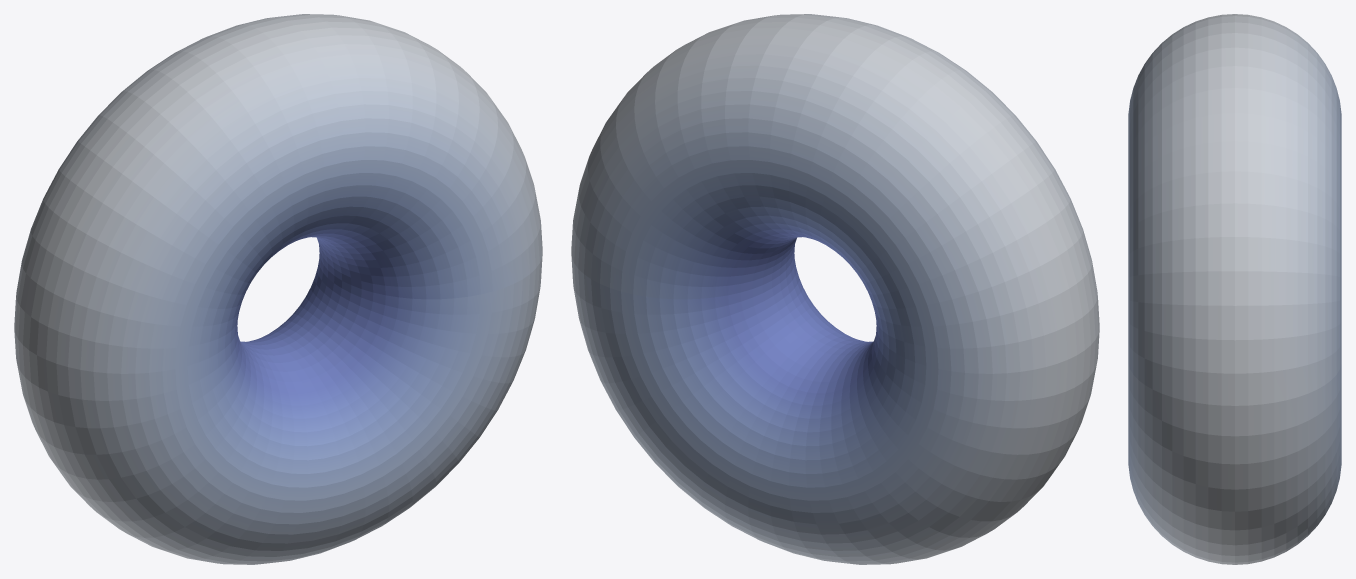
3 views of the same model, side by side, from view 1: azimuth 30°, elevation 25°; view 2: azimuth 150°, elevation 25°; view 3: azimuth 270°, elevation 25° (orthographic). The views are drawn at different scales.
Parts seen in each view (by area): view 1: world; view 2: world; view 3: world.
Part boxes in pixels (box(x1,y1,x2,y2)): world: box(14, 14, 542, 564); world: box(571, 14, 1099, 564); world: box(1128, 14, 1341, 564).
Size of the model in its own units: 19.6 by 19.56 by 7.59.
